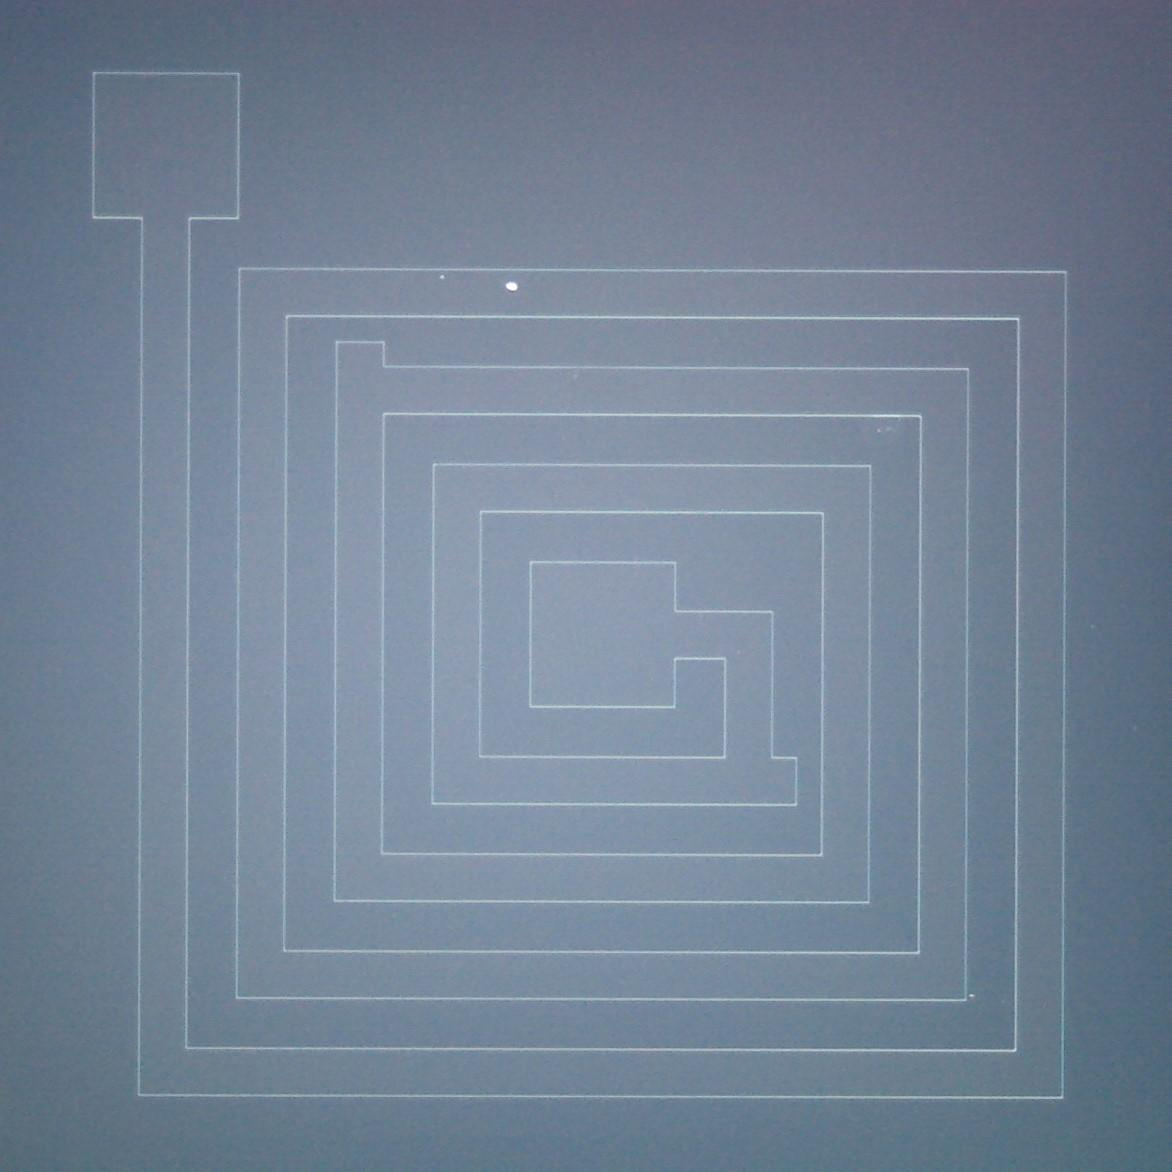B_point: (503, 280, 521, 295)
project: (705, 735, 807, 822), (325, 332, 409, 435)
s_point: (873, 425, 885, 439), (436, 272, 448, 283), (967, 993, 978, 1000)
